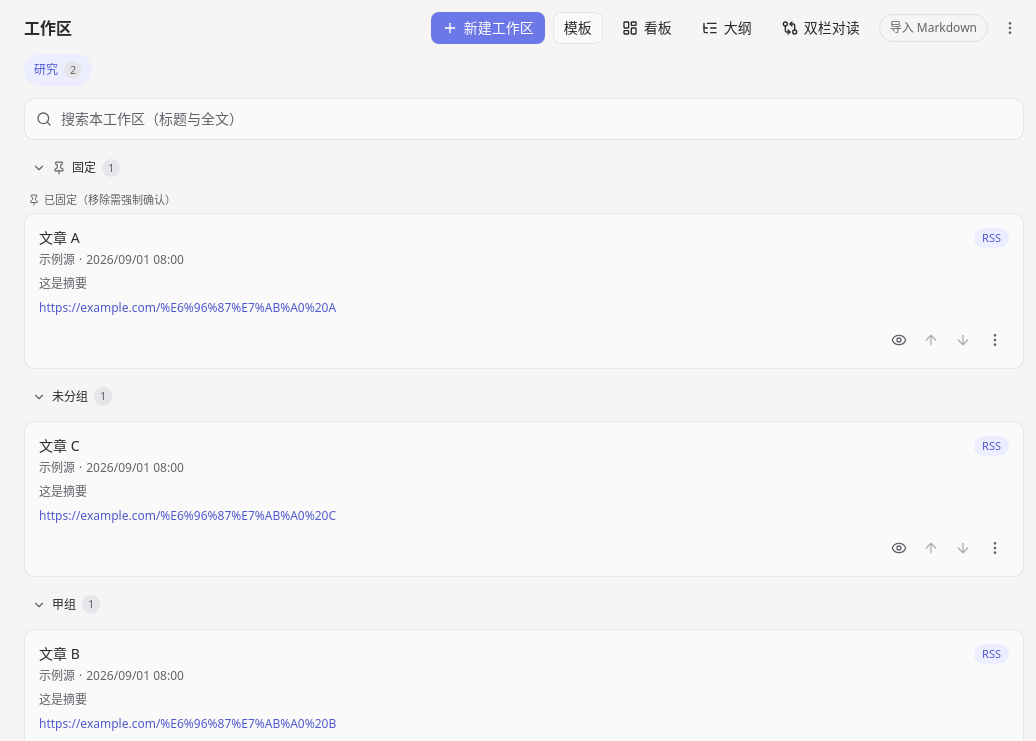
Test: N103 临时预览 › 预览按钮打开页内窗格（不导航）；连续打开 = 替换不叠加
This screenshot has width=1036, height=741.
Click the 1st button named "预览": (899, 340) [885,326,913,354]
(page scrolled)
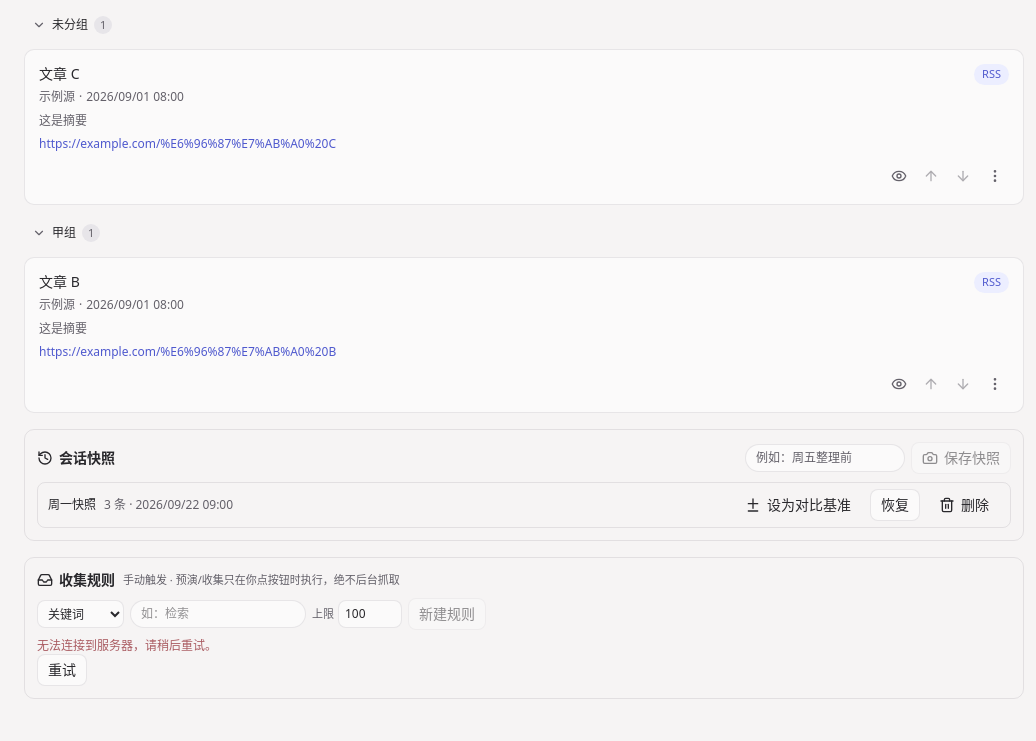
Click the 2nd button named "预览": (899, 384) [885,370,913,398]
(page scrolled)
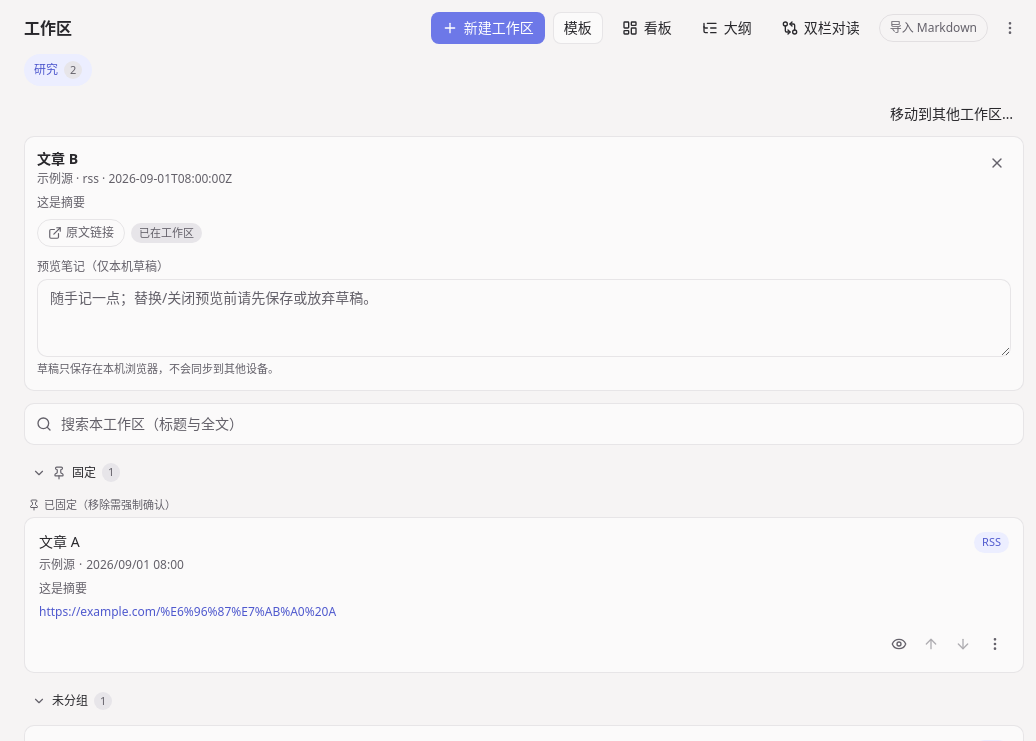
Now the number of elements named "内容预览" is 1, box [24,136,1024,390]
Now the heading "文章 B" is shown, box [37,149,78,168]
